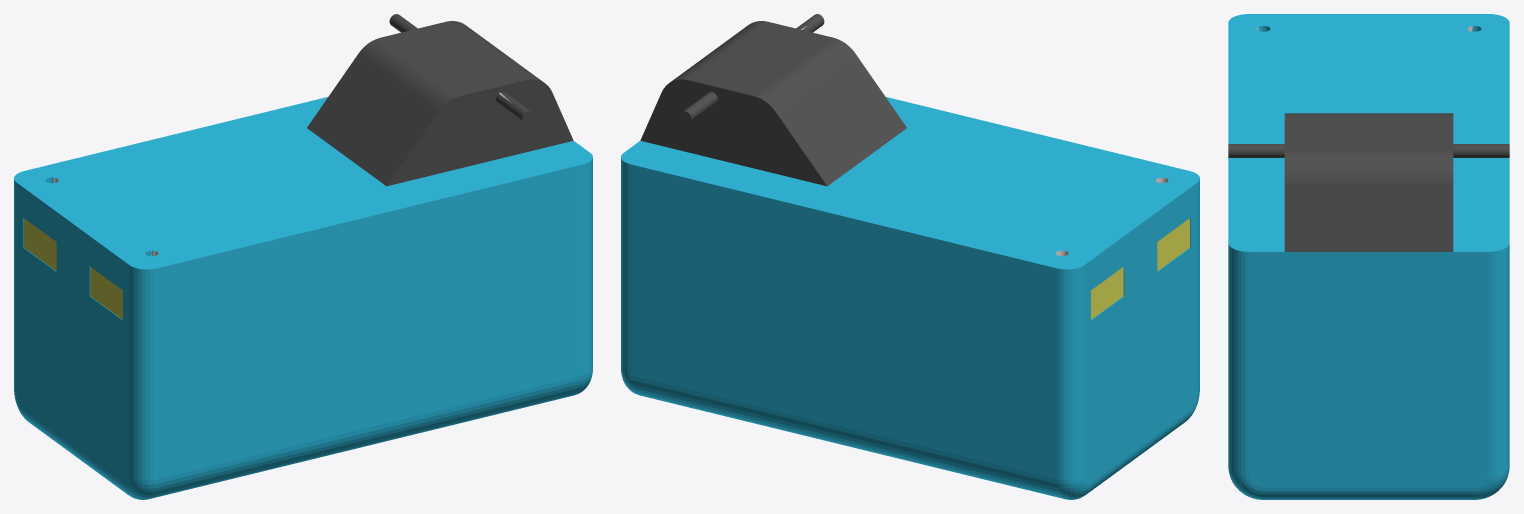
3 renders of one model, left to right at view 1: azimuth 30°, elevation 25°; view 2: azimuth 150°, elevation 25°; view 3: azimuth 270°, elevation 25°, orthographic. The views are drawn at different scales.
Visible parts, largest first — view 1: Base Link; view 2: Base Link; view 3: Base Link.
Boxes of the visible parts, x1=… form: Base Link: x1=14, y1=14, x2=592, y2=499; Base Link: x1=621, y1=14, x2=1199, y2=499; Base Link: x1=1228, y1=14, x2=1509, y2=499.
Size of the model in its own units: 0.8 by 0.4 by 0.52.
